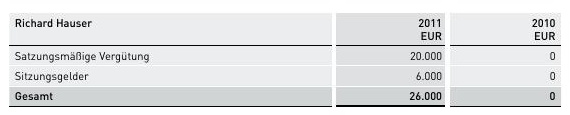table: (0, 0, 570, 115)
